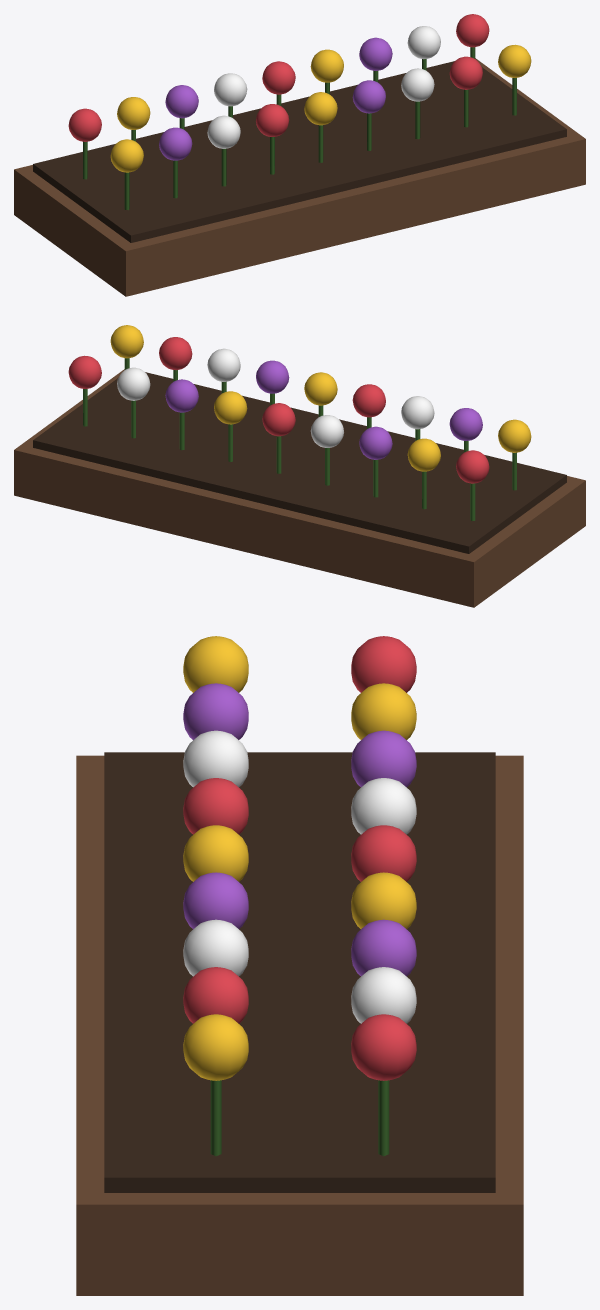
File: flowerBed.glb
3 renders of one model, top to bottom at view 1: azimuth 30°, elevation 25°; view 2: azimuth 150°, elevation 25°; view 3: azimuth 270°, elevation 25°, orthographic. The views are drawn at different scales.
Parts seen in each view (by area): view 1: flowerBed; view 2: flowerBed; view 3: flowerBed.
Boxes of the visible parts, x1,y1,x2,y2 form: flowerBed: [14, 14, 585, 296]; flowerBed: [14, 325, 585, 607]; flowerBed: [76, 636, 523, 1295].
Bounding box in the file's own units: 1.9 × 0.48 × 0.8.
